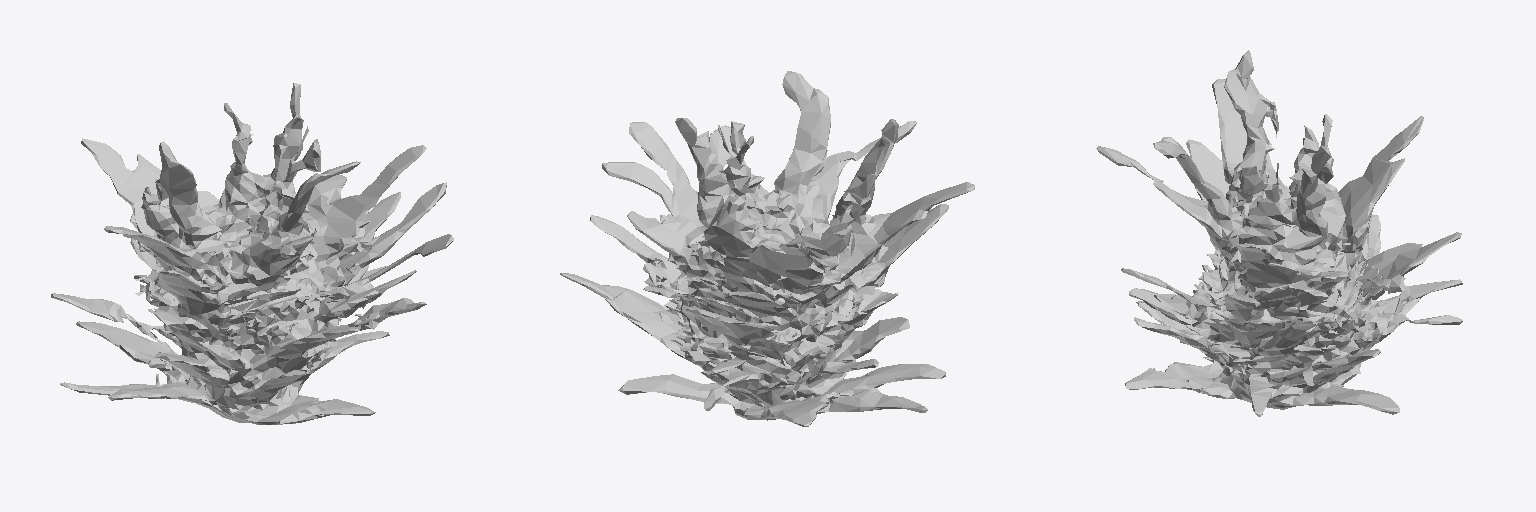
File: 73a713e3f4d1_a_small_purple_fern.obj
3 renders of one model, left to right at view 1: azimuth 30°, elevation 25°; view 2: azimuth 150°, elevation 25°; view 3: azimuth 270°, elevation 25°, orthographic.
Visible parts, largest first — view 1: mesh; view 2: mesh; view 3: mesh.
Part boxes in pixels (left/top/right/bottom): mesh: left=51, top=83, right=453, bottom=424; mesh: left=560, top=71, right=974, bottom=426; mesh: left=1096, top=50, right=1462, bottom=416.
Size of the model in its own units: 1 by 0.8147 by 0.8937.